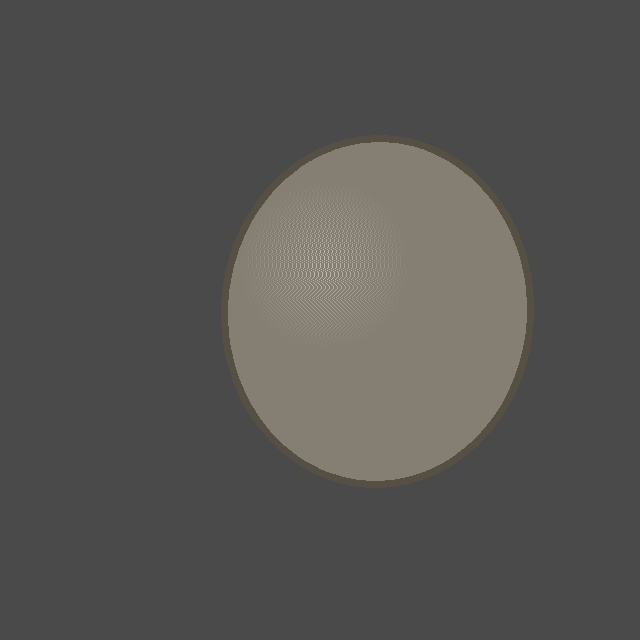lens: (224, 138, 530, 484)
